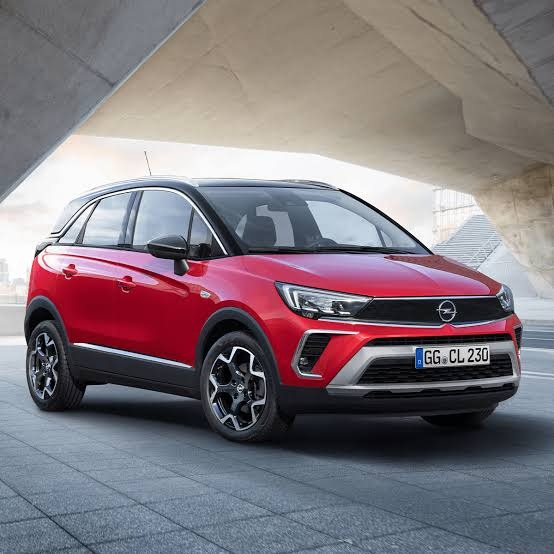car: (12, 167, 547, 451)
